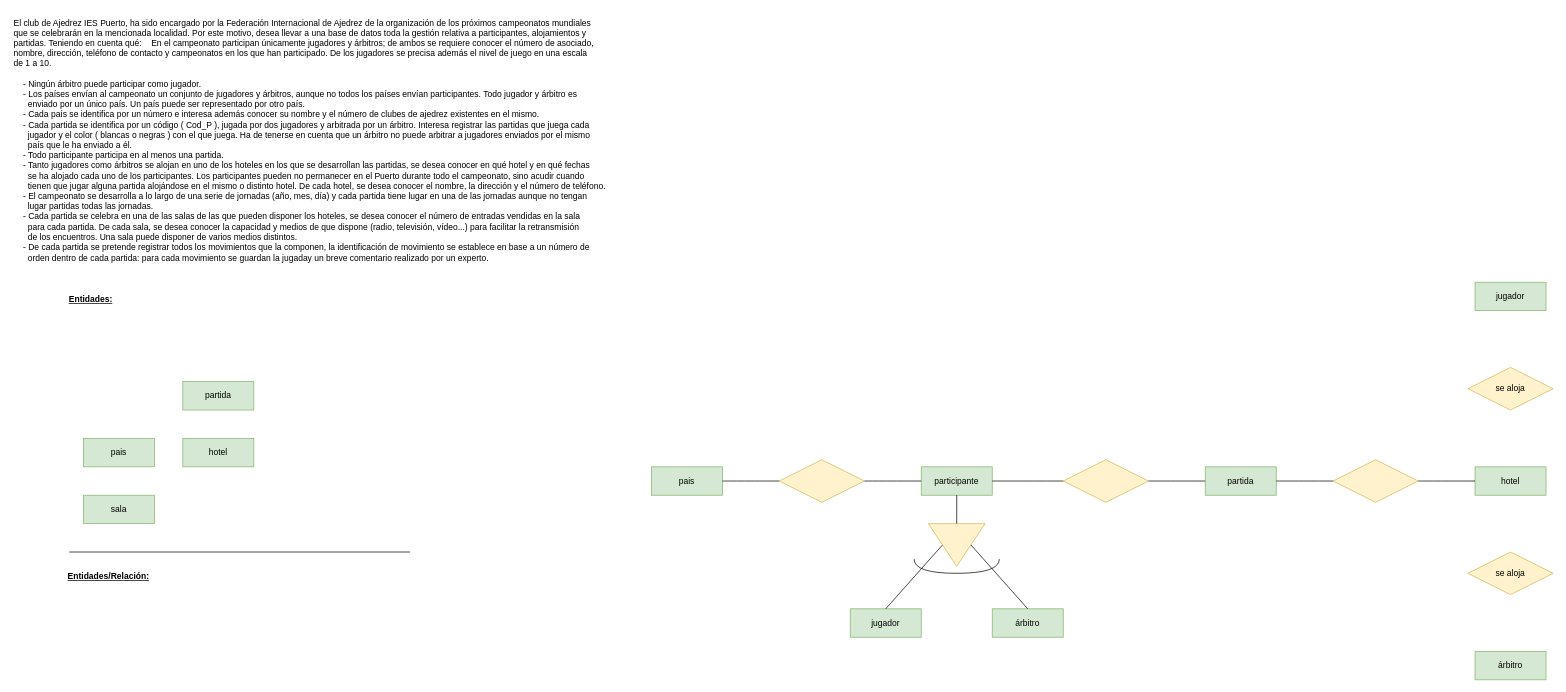
Image size: 1566x692. Some labels were removed from this diagram. Each missing label, with the box of its shape:
envían: (779, 459, 864, 502)
participa: (1063, 459, 1148, 502)
se desarrolla: (1332, 459, 1418, 502)
